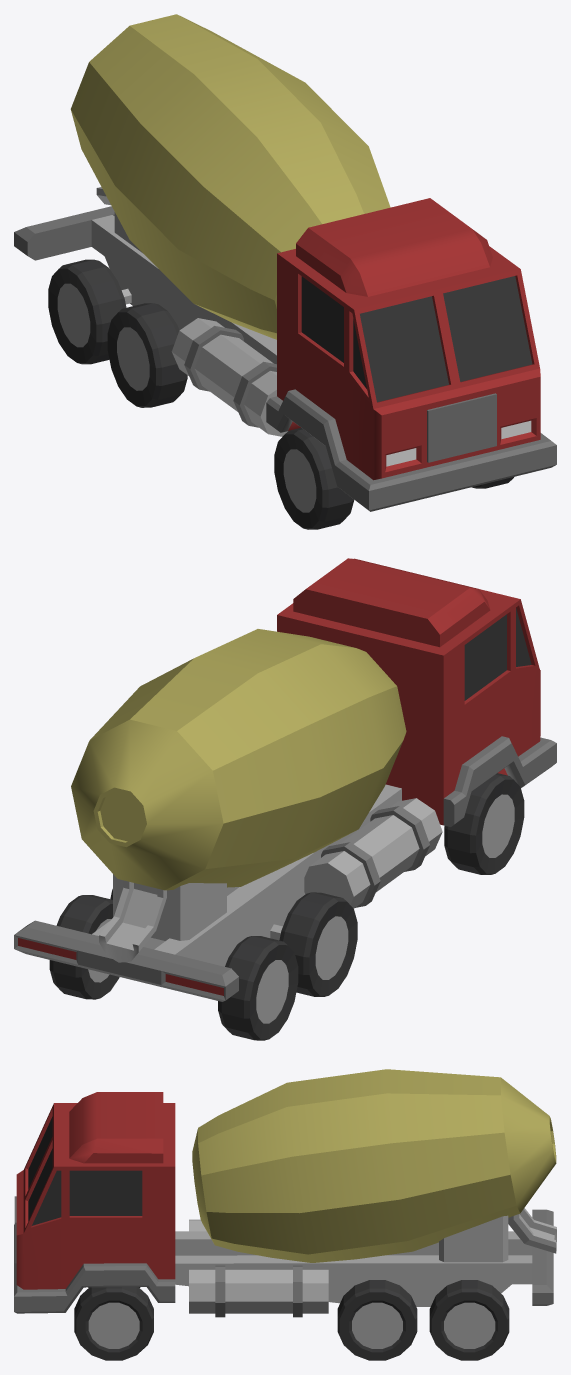
The model's file is Gruzovik_V2.fbx.
The picture shows the model from 3 angles, top to bottom: view 1: azimuth 30°, elevation 25°; view 2: azimuth 150°, elevation 25°; view 3: azimuth 270°, elevation 25°; orthographic projection. The views are drawn at different scales.
Visible parts, largest first — view 1: Gruzovik_V2; view 2: Gruzovik_V2; view 3: Gruzovik_V2.
Boxes of the visible parts, x1,y1,x2,y2 form: Gruzovik_V2: (14, 14, 556, 529); Gruzovik_V2: (14, 558, 556, 1040); Gruzovik_V2: (14, 1069, 556, 1360).
Bounding box in the file's own units: 5.07 × 7.07 × 14.32.
